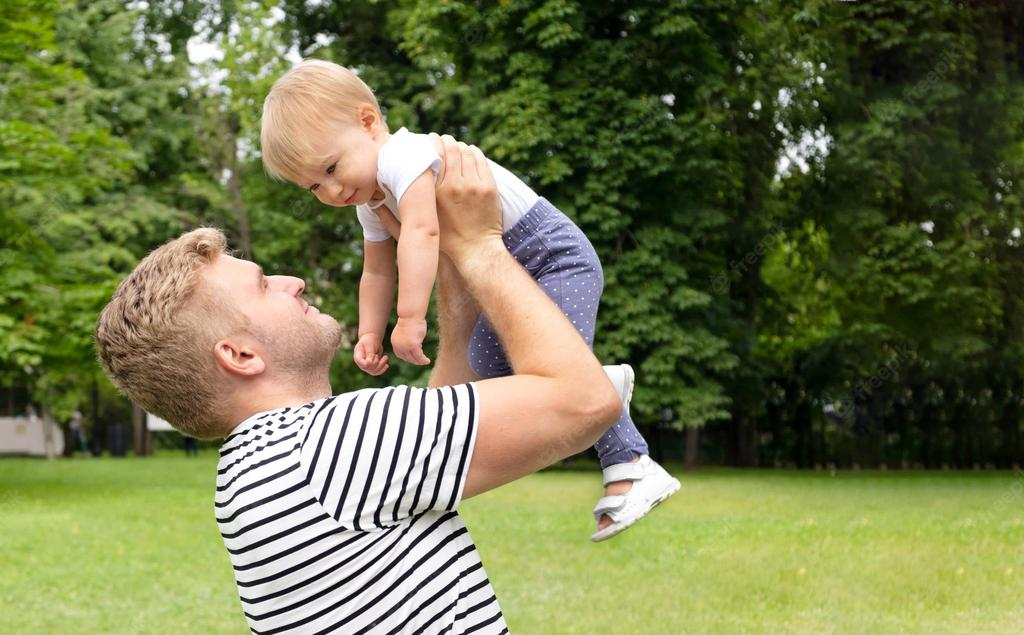child: (250, 53, 719, 520)
